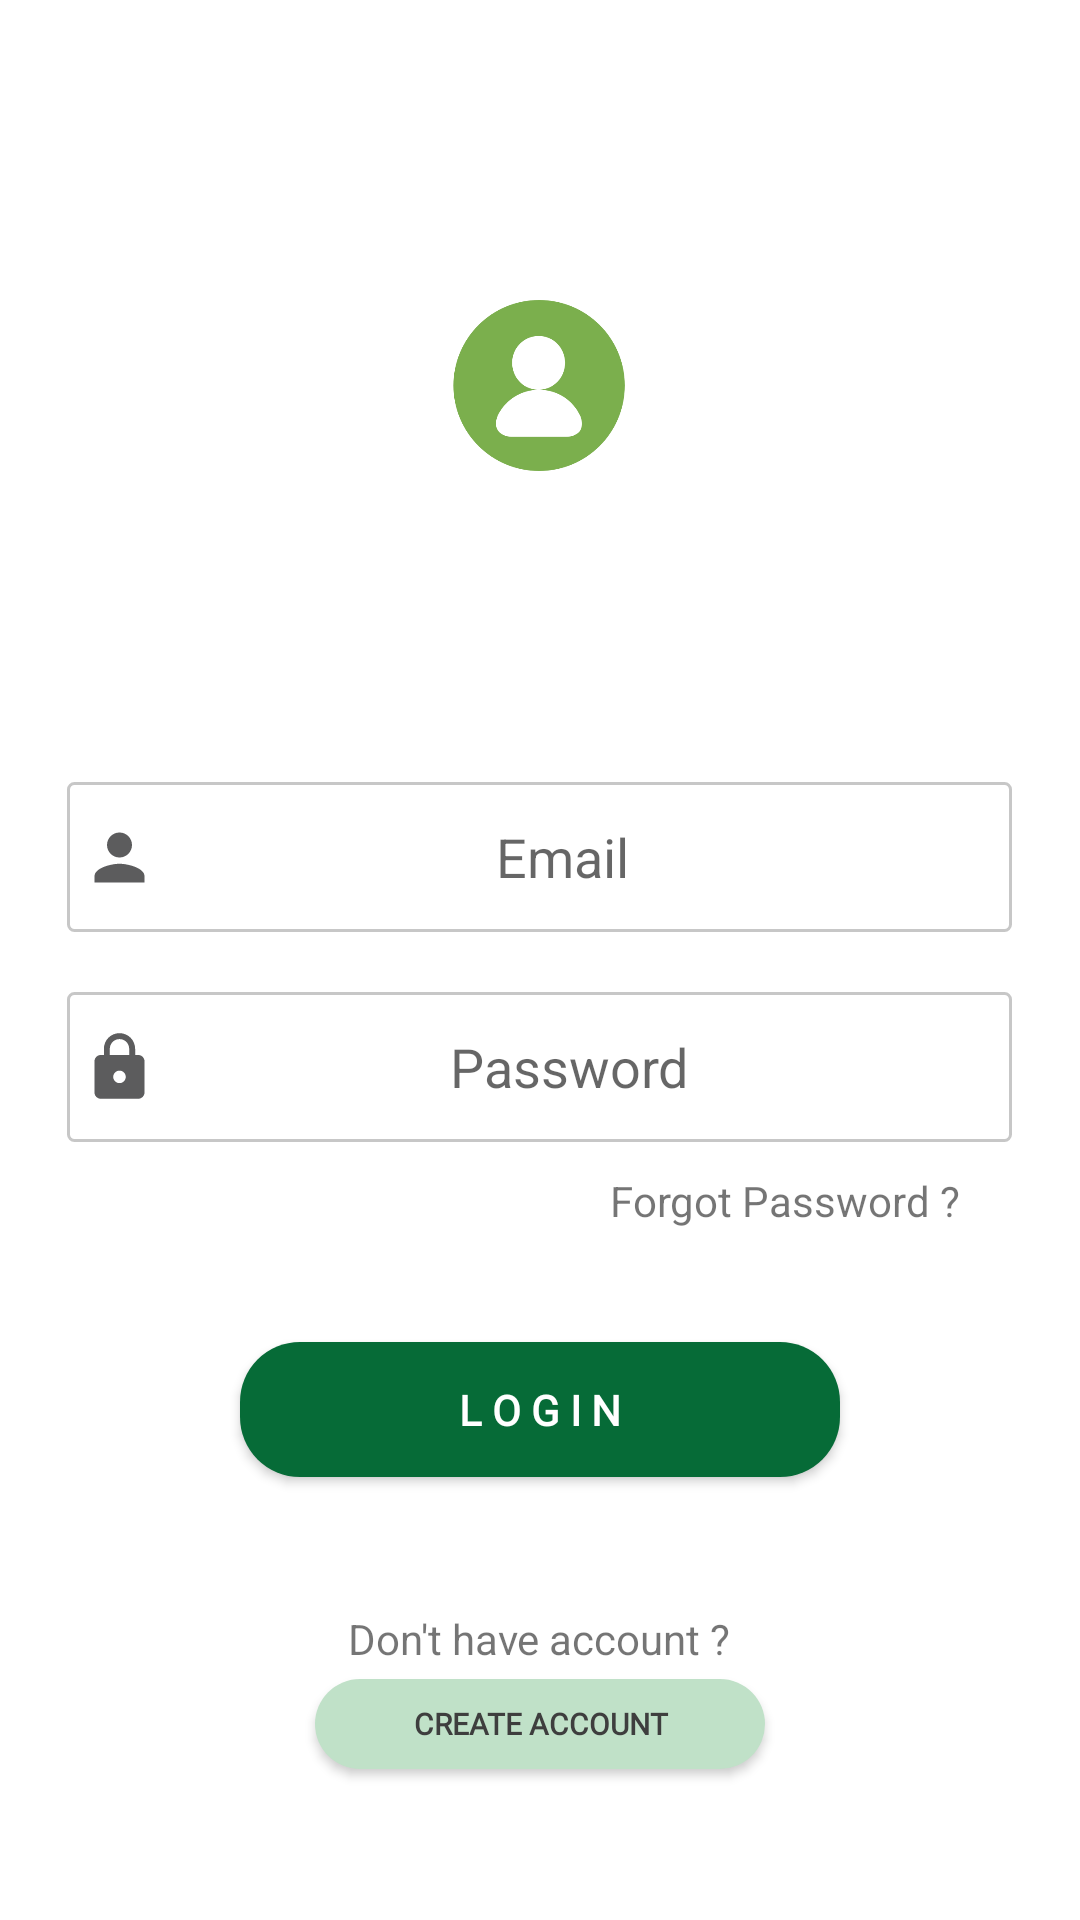

Screen size 1080*1920. Icon name, then its center in pixels as (x,y):
lock: (119,1066)
person: (119,857)
